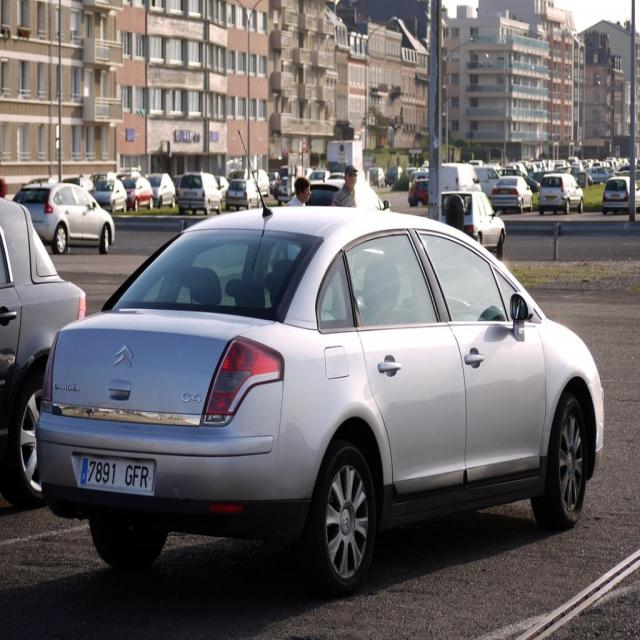other: (0, 160, 639, 595)
